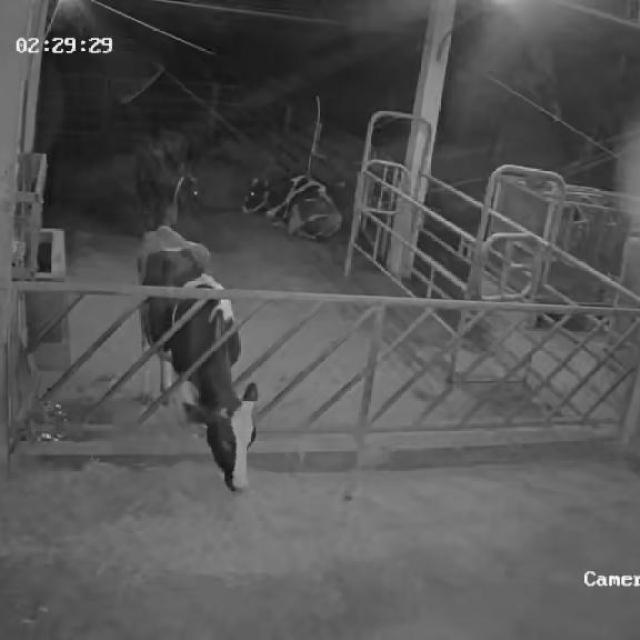feeding: (135, 225, 261, 492)
lying down: (243, 171, 343, 247)
standing: (135, 125, 199, 236)
